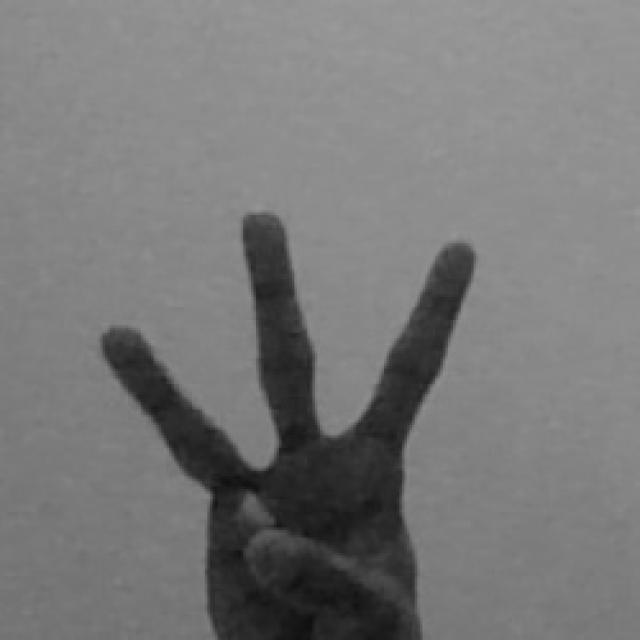W: (90, 205, 481, 640)
